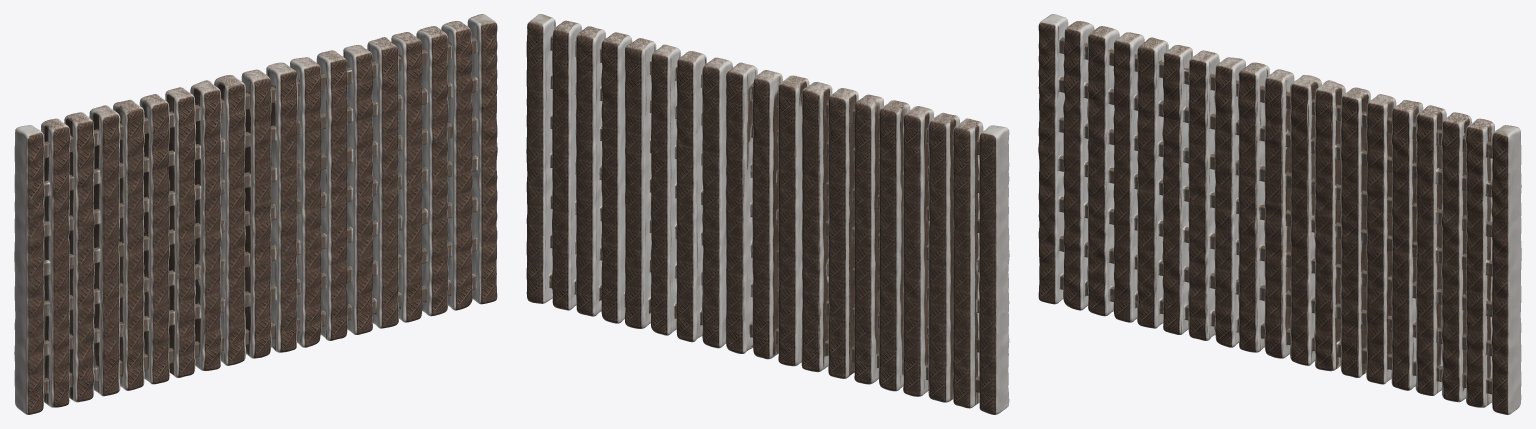
File: homeze-tpe-anti-slip-shower-mat-elevate-your-bathing-experie.glb
The picture shows the model from 3 angles, left to right: view 1: azimuth 30°, elevation 25°; view 2: azimuth 150°, elevation 25°; view 3: azimuth 330°, elevation 25°; orthographic projection.
Size of the model in its own units: 1.9 by 1.09 by 0.1064.
1 material, 1 textured.
